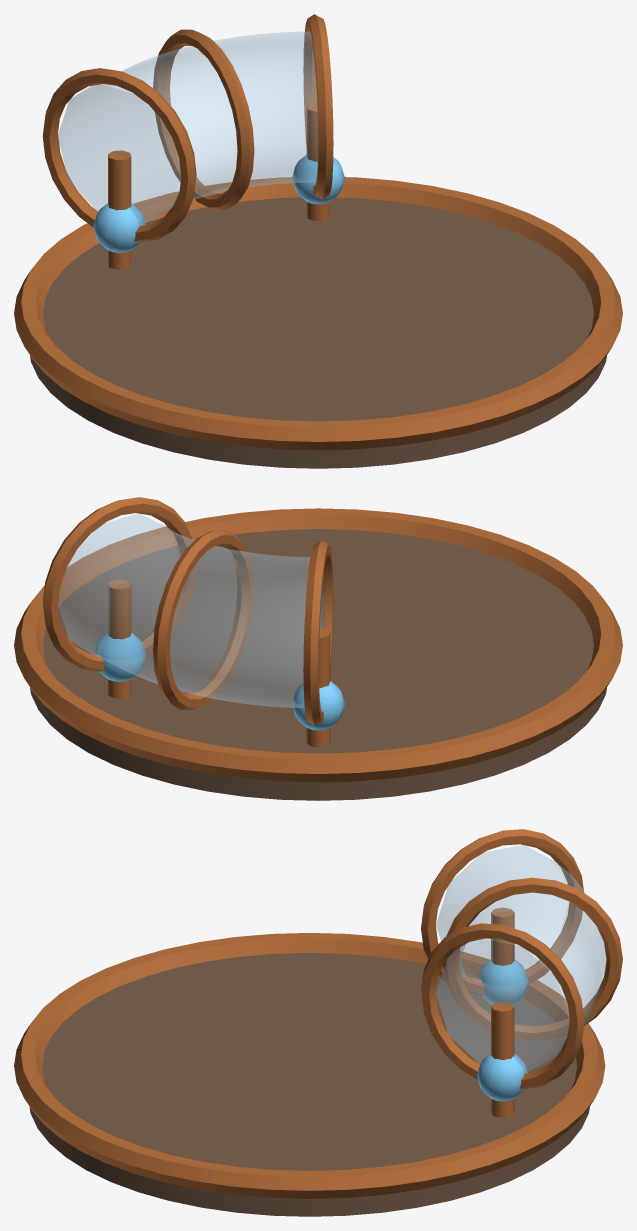
File: ausguck_lift.obj
The picture shows the model from 3 angles, top to bottom: view 1: azimuth 30°, elevation 25°; view 2: azimuth 150°, elevation 25°; view 3: azimuth 270°, elevation 25°; orthographic projection. The views are drawn at different scales.
Visible parts, largest first — view 1: Ausguck_Lift; view 2: Ausguck_Lift; view 3: Ausguck_Lift.
Part boxes in pixels (<box>): Ausguck_Lift: <box>14,14,622,468</box>; Ausguck_Lift: <box>14,497,622,800</box>; Ausguck_Lift: <box>14,829,622,1216</box>.
Bounding box in the file's own units: 5.04 × 2.07 × 5.19.
